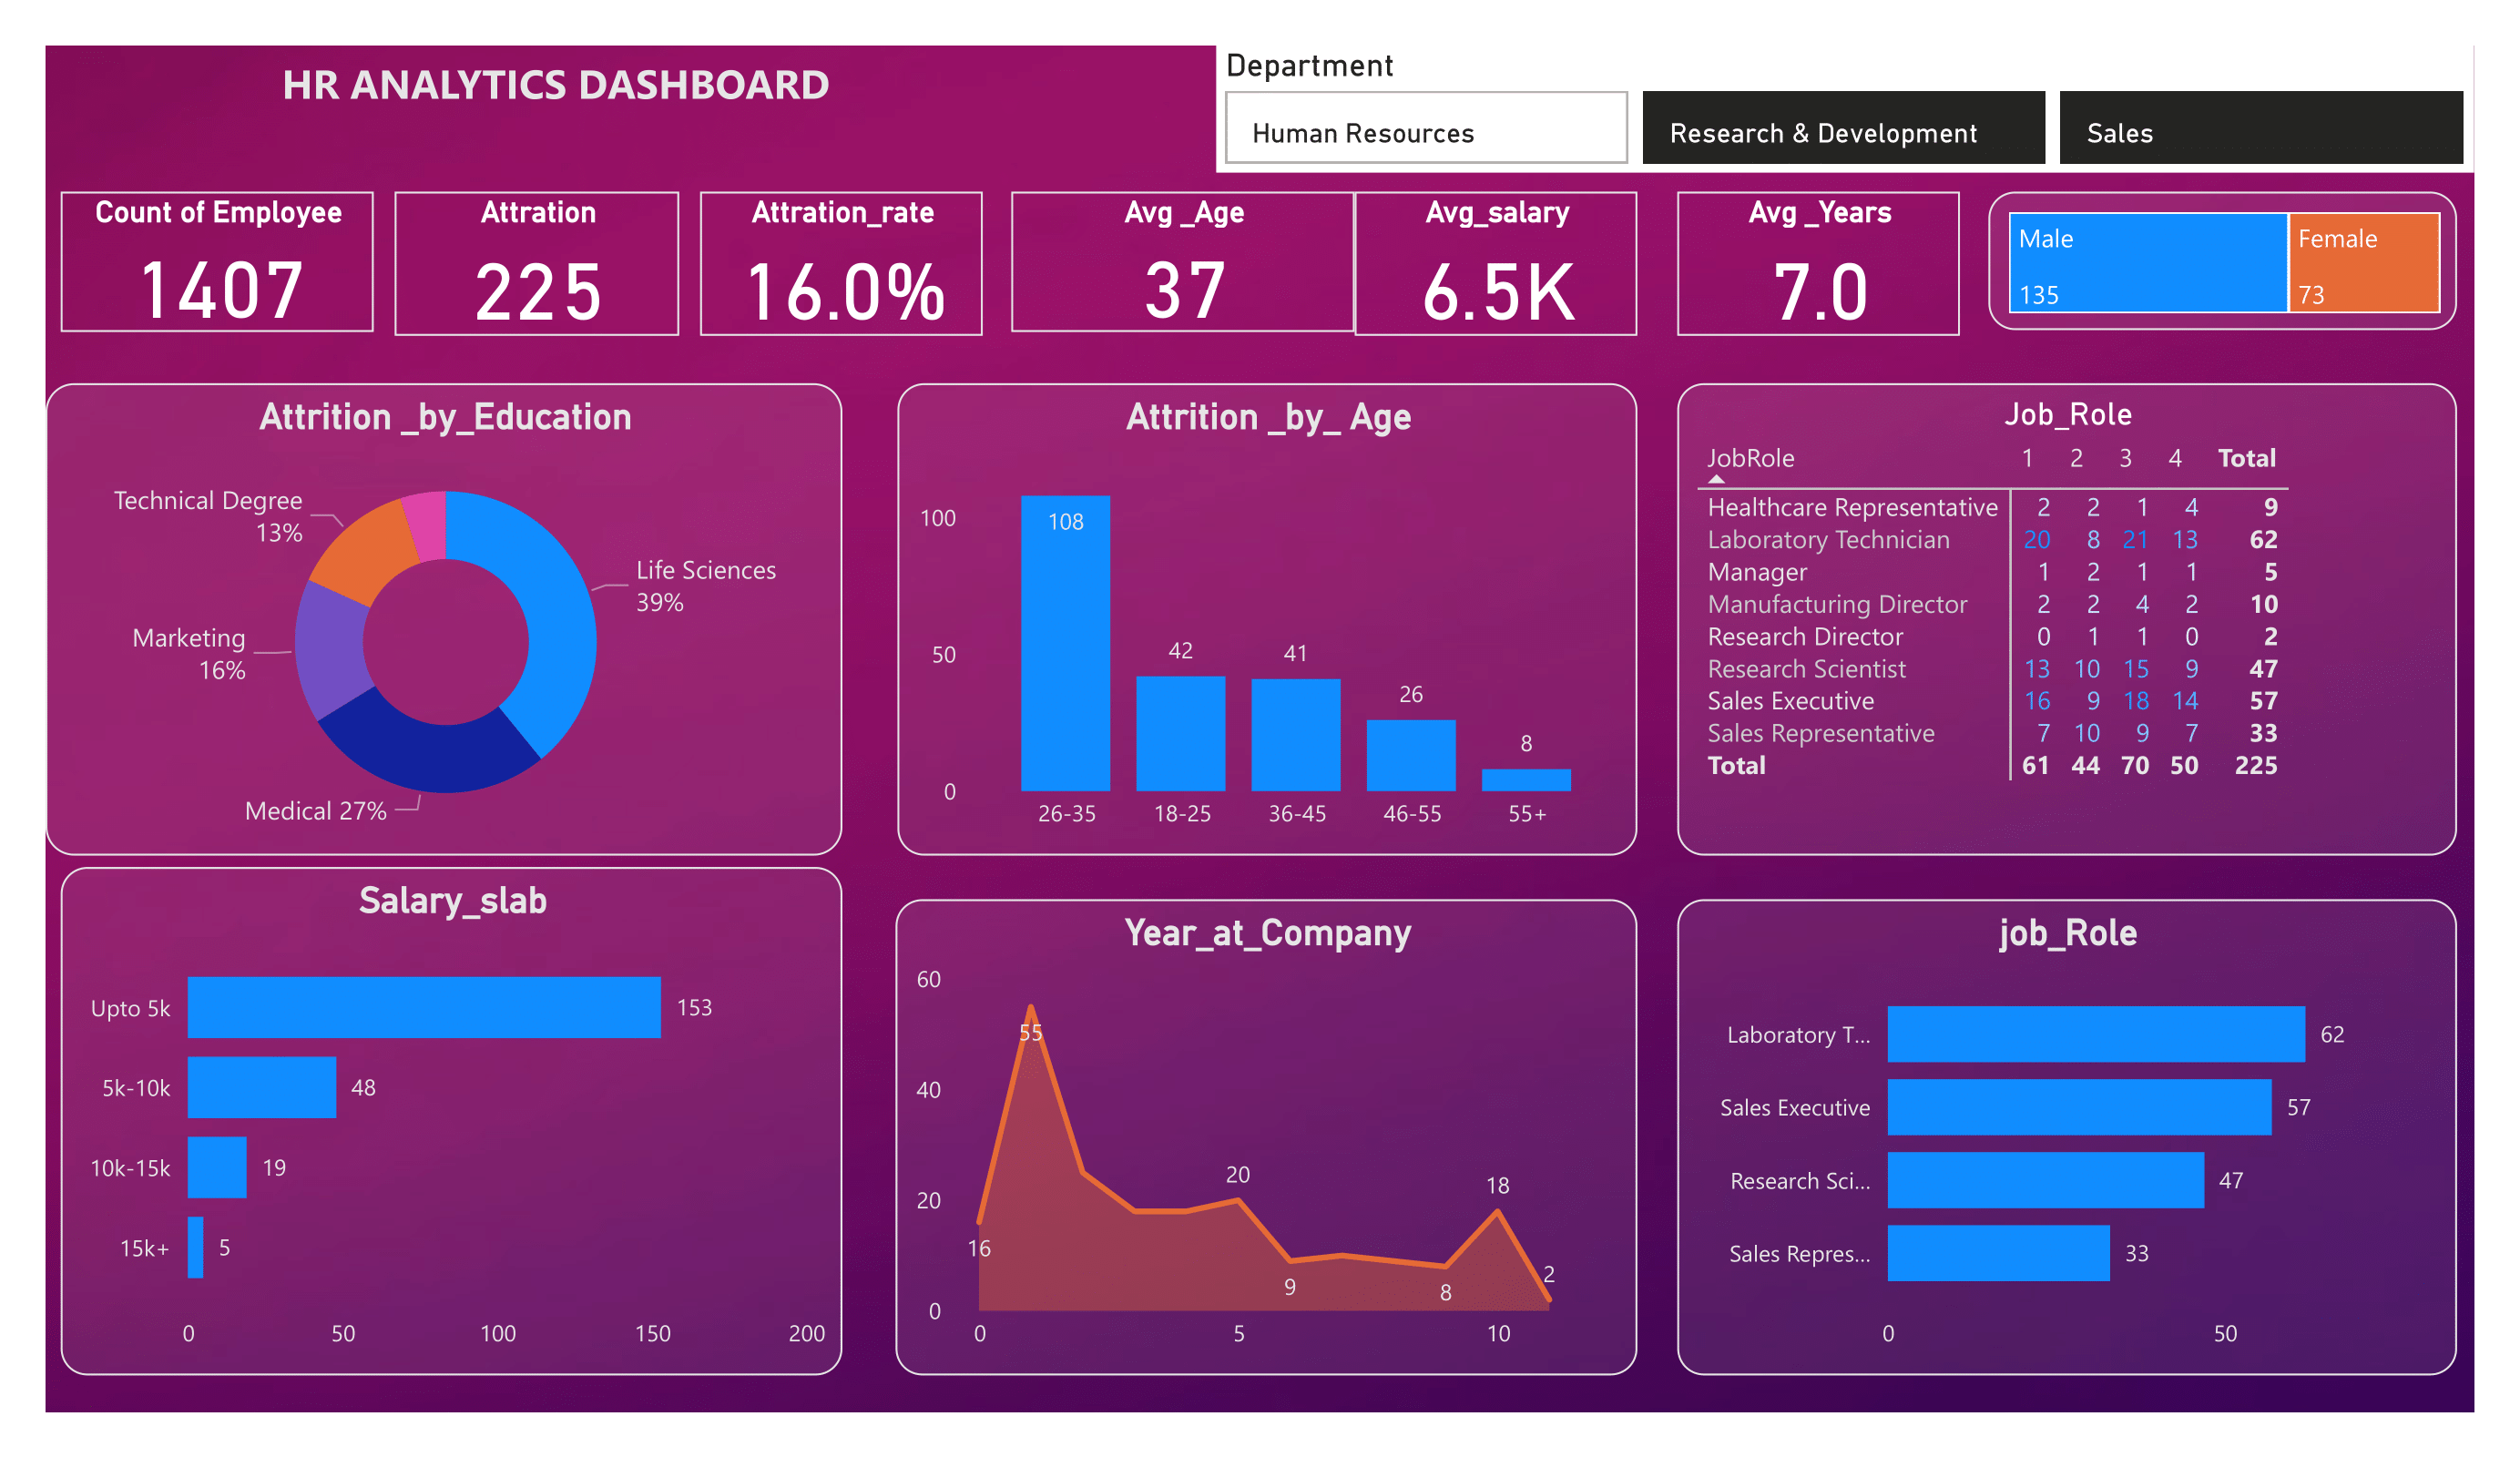

Layout of this report page (visuals, bound fields, positions):
{"tool":"powerbi","page":{"name":"Page 1","canvas":[1280,720],"ordinal":0},"visuals":[{"type":"card","title":"Count of Employee","fields":{"Values":["CountNonNull(HR_Analytics (2).EmpID)"]},"box":[7.9,77.1,165.3,74],"z":0},{"type":"card","title":"Attration","fields":{"Values":["Sum(HR_Analytics (2).Attrition_count)"]},"box":[184.2,77.1,149.6,75.6],"z":1000},{"type":"card","title":"Attration_rate","fields":{"Values":["HR_Analytics (2).Attration_rate"]},"box":[344.8,77.1,149.6,75.6],"z":2000},{"type":"card","title":"Avg _Age","fields":{"Values":["Avg(HR_Analytics (2).Age)"]},"box":[508.5,77.1,181.1,74],"z":3000},{"type":"card","title":"Avg_salary","fields":{"Values":["Avg(HR_Analytics (2).MonthlyIncome)"]},"box":[689.6,77.1,149.6,75.6],"z":4000},{"type":"card","title":"Avg _Years","fields":{"Values":["Avg(HR_Analytics (2).YearsAtCompany)"]},"box":[859.6,77.1,149.6,75.6],"z":5000},{"type":"donutChart","title":"Attrition _by_Education","fields":{"Category":["HR_Analytics (2).EducationField"],"Y":["Sum(HR_Analytics (2).Attrition_count)"]},"box":[0,177.9,420.4,248.8],"z":6000},{"type":"columnChart","title":"Attrition _by_ Age","fields":{"Category":["HR_Analytics (2).AgeGroup"],"Y":["Sum(HR_Analytics (2).Attrition_count)"]},"box":[448.7,177.9,390.5,248.8],"z":7000},{"type":"pivotTable","title":"Job_Role","fields":{"Rows":["HR_Analytics (2).JobRole"],"Columns":["HR_Analytics (2).JobSatisfaction"],"Values":["Sum(HR_Analytics (2).Attrition_count)"]},"box":[859.6,177.9,410.9,248.8],"z":8000},{"type":"barChart","title":"Salary_slab","fields":{"Category":["HR_Analytics (2).SalarySlab"],"Y":["Sum(HR_Analytics (2).Attrition_count)"]},"box":[7.9,433,412.5,267.7],"z":9000},{"type":"barChart","title":"job_Role","fields":{"Y":["Sum(HR_Analytics (2).Attrition_count)"],"Category":["HR_Analytics (2).JobRole"]},"box":[859.6,450.3,410.9,250.3],"z":10000},{"type":"areaChart","title":"Year_at_Company","fields":{"Category":["HR_Analytics (2).YearsAtCompany"],"Y":["Sum(HR_Analytics (2).Attrition_count)"]},"box":[448.5,450.5,390.9,250],"z":11000},{"type":"treemap","title":"Attrition _by_Education","fields":{"Group":["HR_Analytics (2).Gender"],"Values":["Sum(HR_Analytics (2).Attrition_count)"]},"box":[1024,77,247,73],"z":12000},{"type":"advancedSlicerVisual","fields":{"Values":["HR_Analytics (2).Department"]},"box":[616.5,0,663.3,66.6],"z":13000},{"type":"textbox","box":[8.5,0,520.2,46.8],"z":14000}]}

Visuals, with their boxes in screenshot pixels (x1, y1, x2, y2):
"Count of Employee" card: bbox=(60, 192, 374, 332)
"Attration" card: bbox=(395, 192, 679, 335)
"Attration_rate" card: bbox=(699, 192, 984, 335)
"Avg _Age" card: bbox=(1011, 192, 1354, 332)
"Avg_salary" card: bbox=(1354, 192, 1638, 335)
"Avg _Years" card: bbox=(1677, 192, 1961, 335)
"Attrition _by_Education" donutChart: bbox=(46, 383, 843, 855)
"Attrition _by_ Age" columnChart: bbox=(897, 383, 1638, 855)
"Job_Role" pivotTable: bbox=(1677, 383, 2456, 855)
"Salary_slab" barChart: bbox=(60, 867, 843, 1375)
"job_Role" barChart: bbox=(1677, 900, 2456, 1375)
"Year_at_Company" areaChart: bbox=(896, 901, 1638, 1374)
"Attrition _by_Education" treemap: bbox=(1989, 191, 2457, 330)
advancedSlicerVisual - HR_Analytics (2).Department: bbox=(1216, 46, 2474, 172)
textbox: bbox=(62, 46, 1049, 135)
